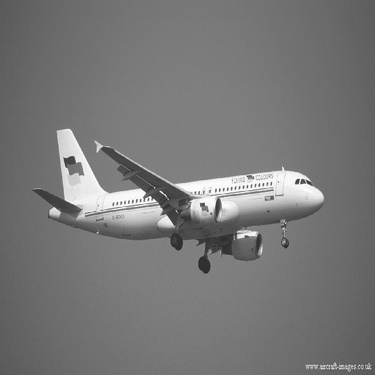airplane: (30, 110, 333, 278)
